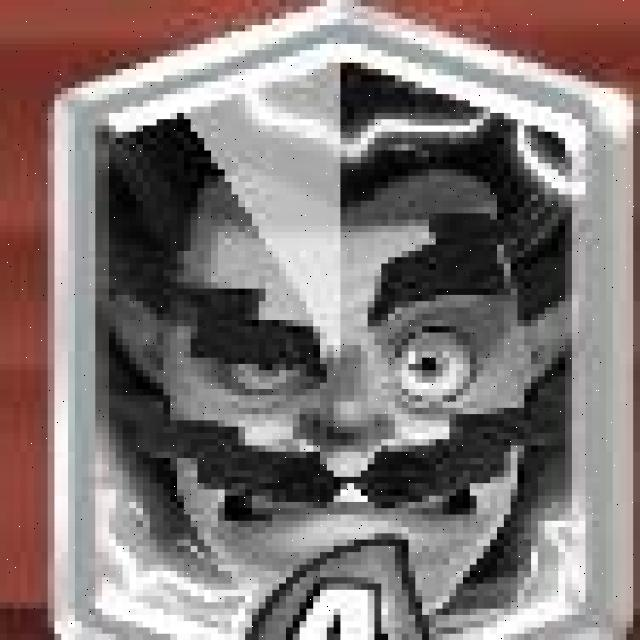Electro_Wizard: (50, 4, 633, 640)
